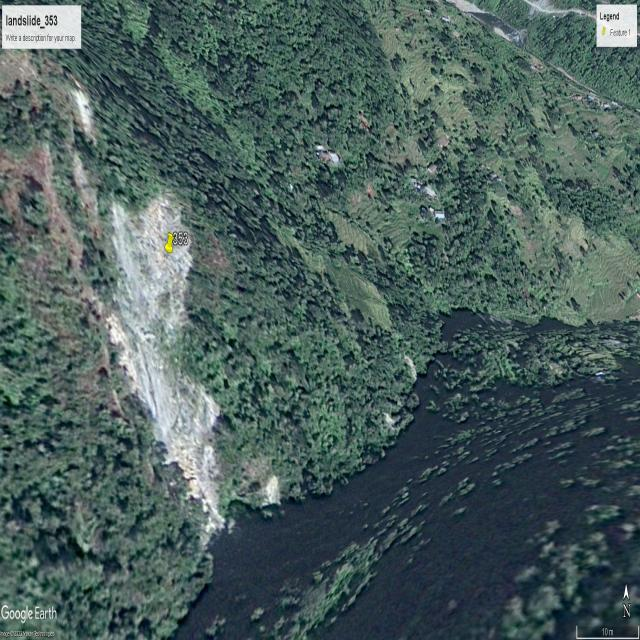Landslide: (114, 196, 230, 516)
